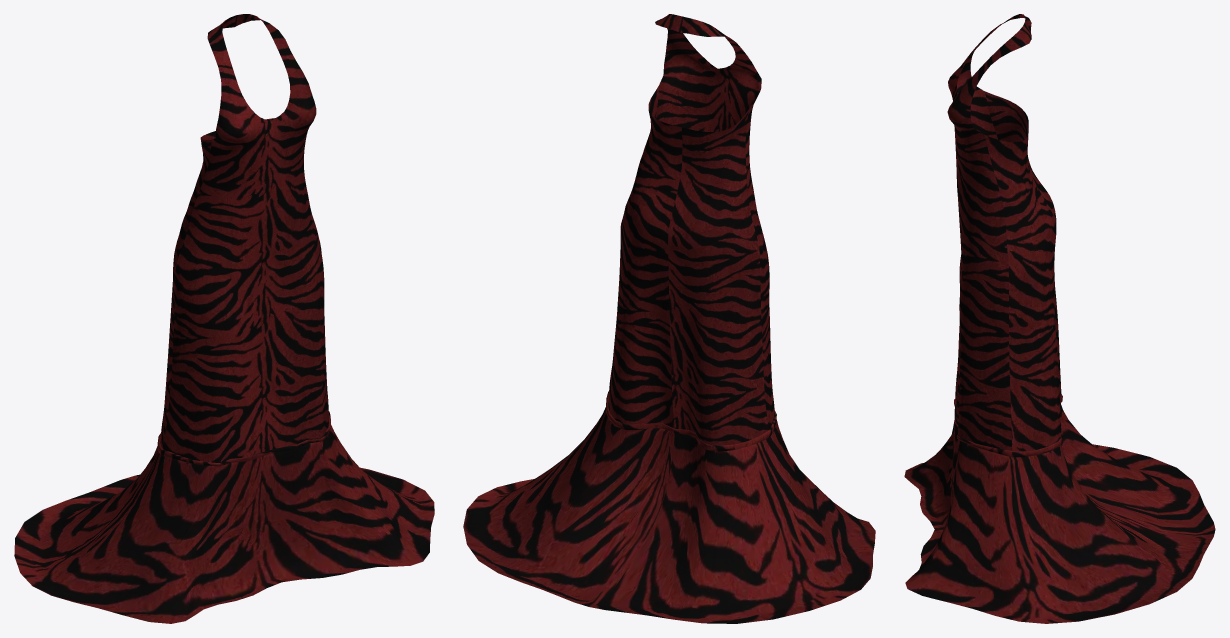
The model's file is toigo-halter-dress-with-fluted-skirt.glb.
3 renders of one model, left to right at view 1: azimuth 30°, elevation 25°; view 2: azimuth 150°, elevation 25°; view 3: azimuth 270°, elevation 25°, orthographic. The views are drawn at different scales.
Visible parts, largest first — view 1: halter dress with fluted skirt; view 2: halter dress with fluted skirt; view 3: halter dress with fluted skirt.
Part boxes in pixels (x1,y1,x2,y2): halter dress with fluted skirt: (14, 14, 434, 623); halter dress with fluted skirt: (463, 14, 875, 623); halter dress with fluted skirt: (904, 14, 1215, 623).
Size of the model in its own units: 106 by 139 by 75.77.
Materials: 1 (1 with a texture image).
